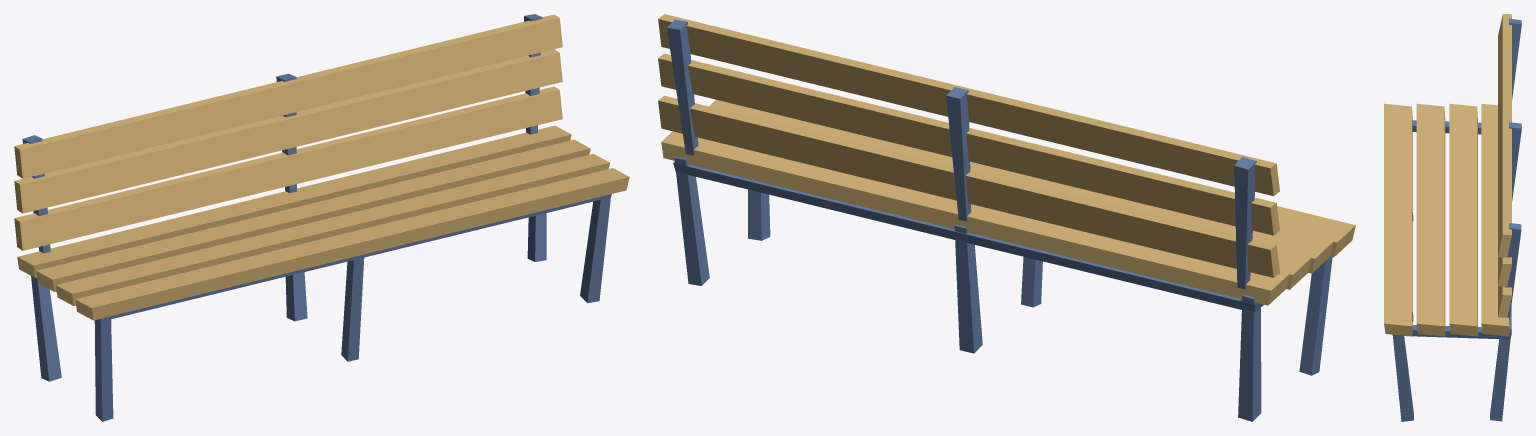
Rendered from bench.fbx.
3 renders of one model, left to right at view 1: azimuth 30°, elevation 25°; view 2: azimuth 150°, elevation 25°; view 3: azimuth 270°, elevation 25°, orthographic. The views are drawn at different scales.
Parts seen in each view (by area): view 1: bench; view 2: bench; view 3: bench.
Part boxes in pixels (x1,y1,x2,y2): bench: (14,14,629,421); bench: (658,14,1355,421); bench: (1384,14,1521,421).
Bounding box in the file's own units: 244 × 102 × 64.43.
